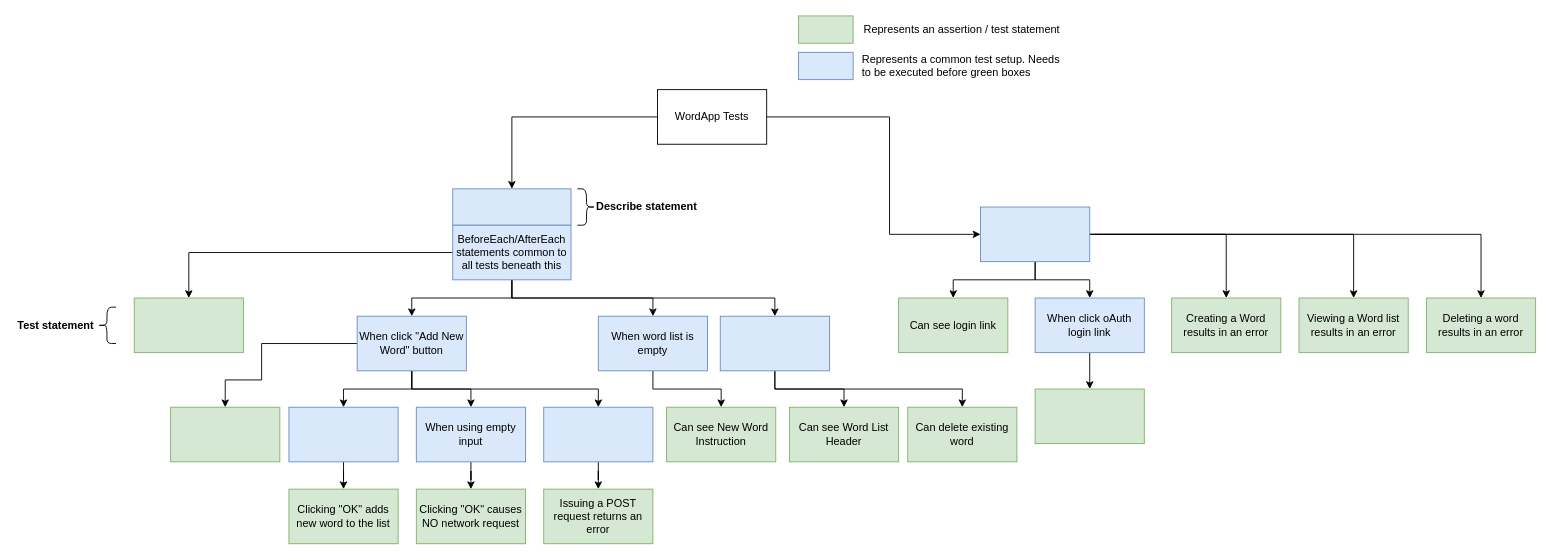
Some shapes in this 1552 by 560 pixel diagram are drawn without their labels. Each missing label, with the centre of its shape:
Can see logout link: the point at 188,325
Can see window.prompt message: the point at 225,434
URL matches expected oAuth provider url: the point at 1089,416
When logged in: the point at 511,206
When not logged in: the point at 1035,234
When using existing word: the point at 598,434
When using valid input: the point at 343,434
When word list is NOT empty: the point at 774,343
